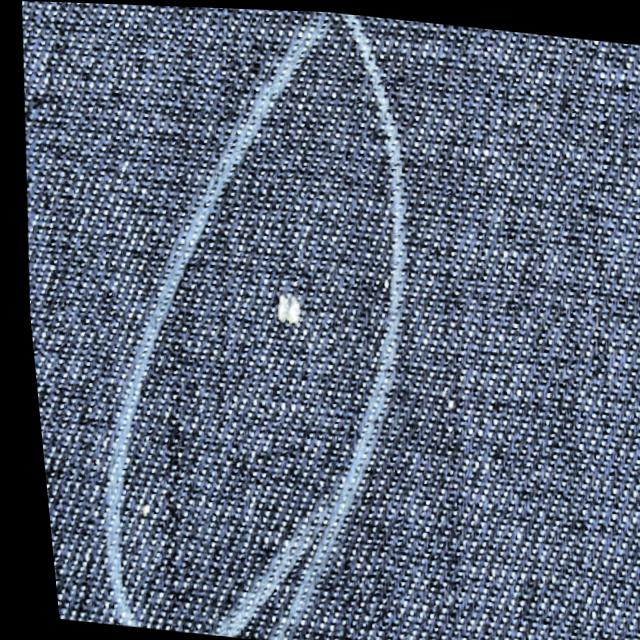Hole: (246, 273, 307, 353)
